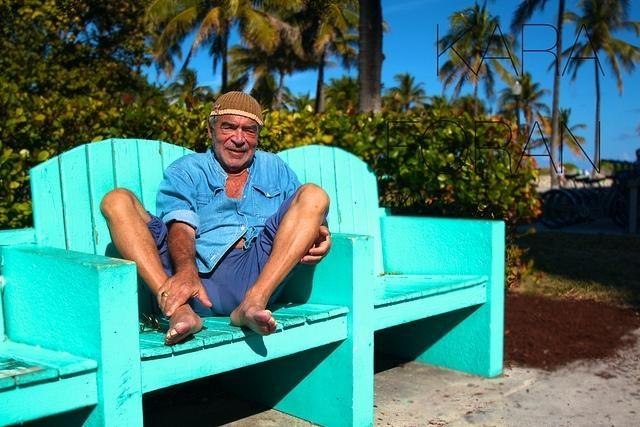bicycle: (538, 158, 633, 230)
